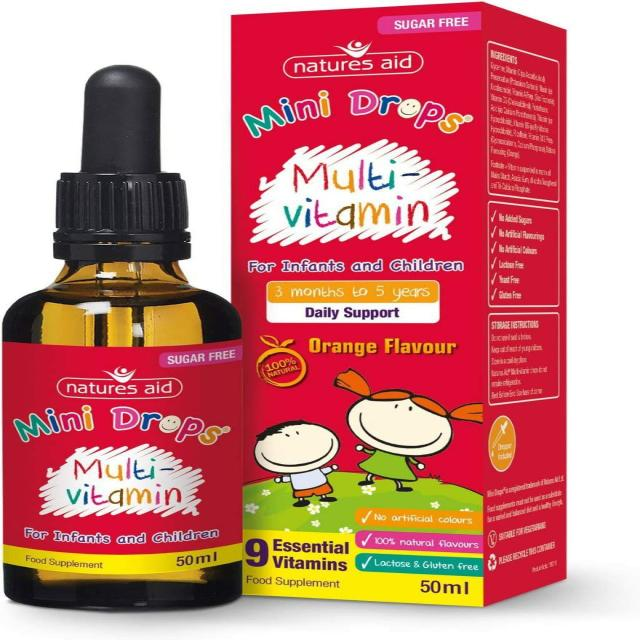food-package: (17, 290, 240, 602)
mini-drop: (233, 12, 487, 595)
